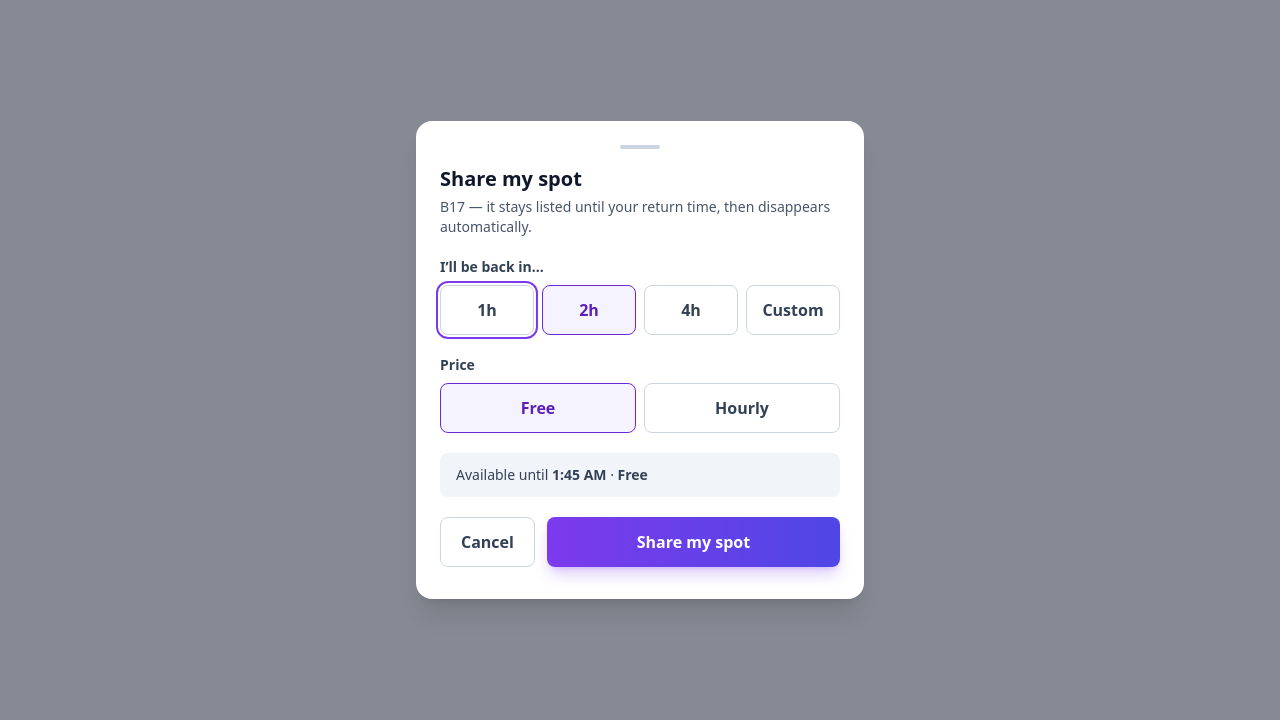
it: ShareSheet › shows the backend error message when sharing fails
The image size is (1280, 720).
Click the button "Share my spot" at (693, 542), box [547, 517, 840, 567]
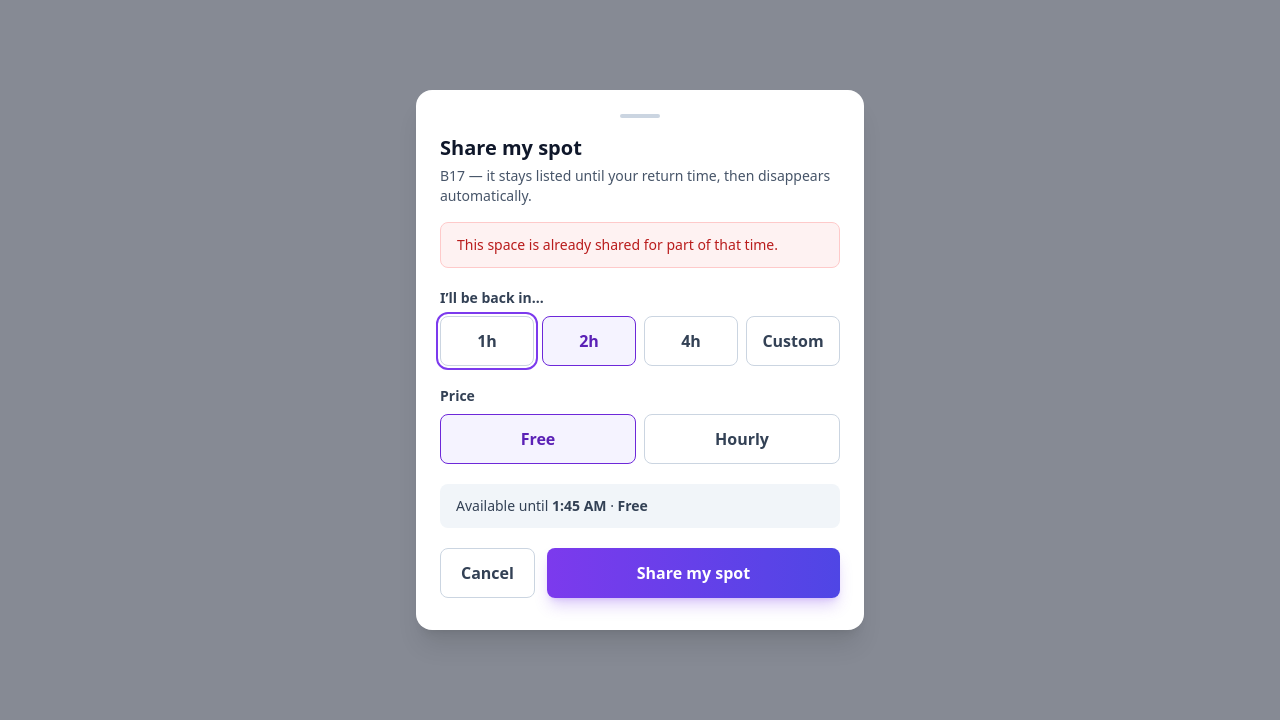
Check: the text "This space is already shared for part of that time." is shown, box [440, 222, 840, 268]
